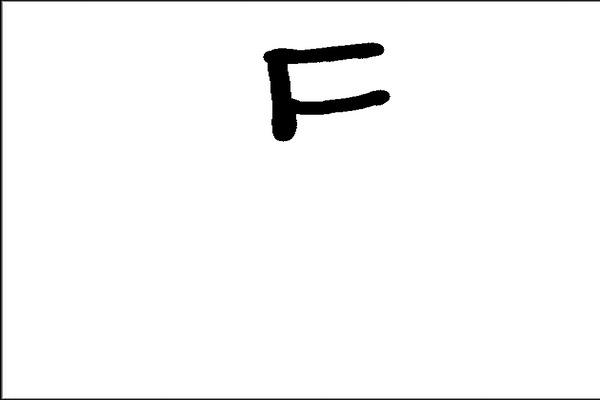F: (258, 35, 393, 144)
